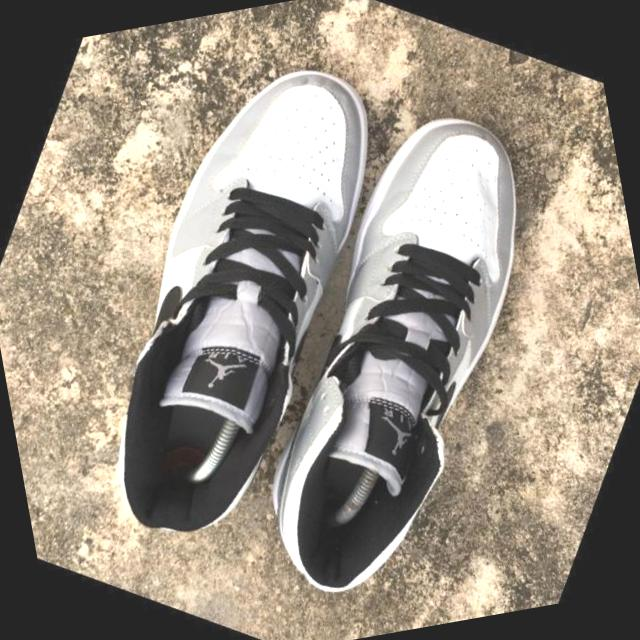nike_fake_jordan: (154, 62, 639, 640), (0, 7, 482, 583)
